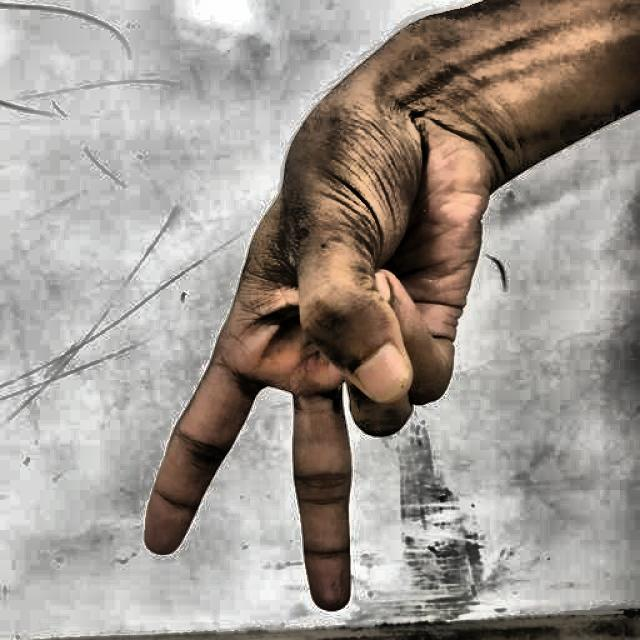Pa: (76, 24, 510, 629)
